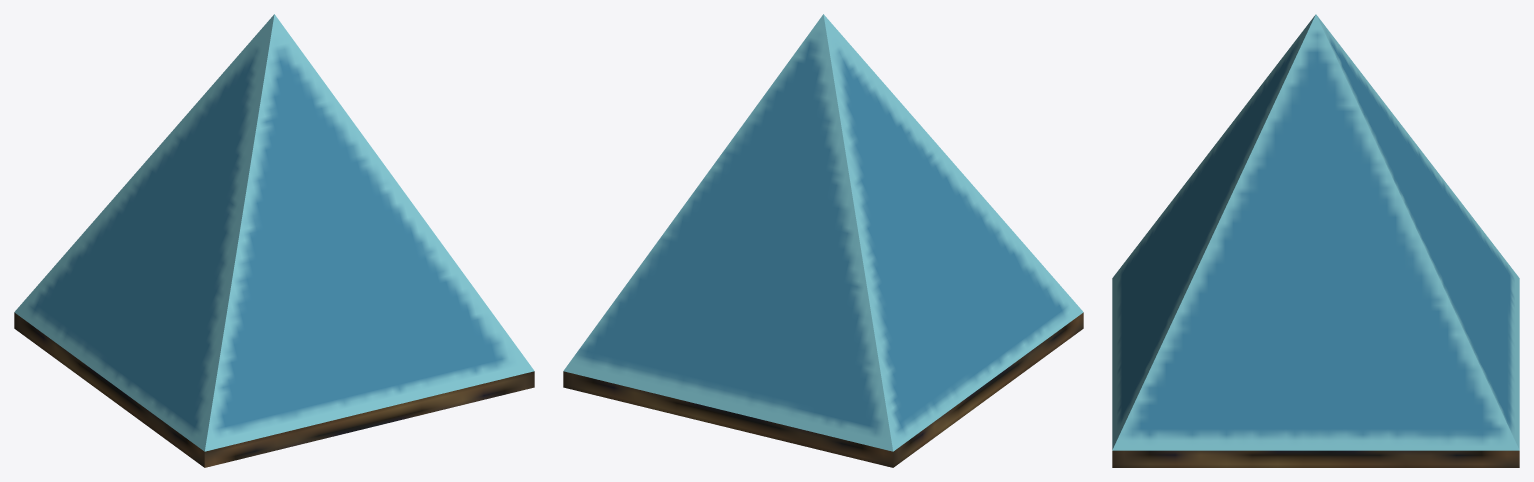
The model's file is lodestar.obj.
3 renders of one model, left to right at view 1: azimuth 30°, elevation 25°; view 2: azimuth 150°, elevation 25°; view 3: azimuth 270°, elevation 25°, orthographic. The views are drawn at different scales.
Visible parts, largest first — view 1: Cube_Cube.003; view 2: Cube_Cube.003; view 3: Cube_Cube.003.
Boxes of the visible parts, box(x1,y1,x2,y2) form: Cube_Cube.003: box(14, 14, 534, 467); Cube_Cube.003: box(563, 14, 1083, 467); Cube_Cube.003: box(1112, 14, 1519, 467).
Size of the model in its own units: 1 by 0.9958 by 1.
